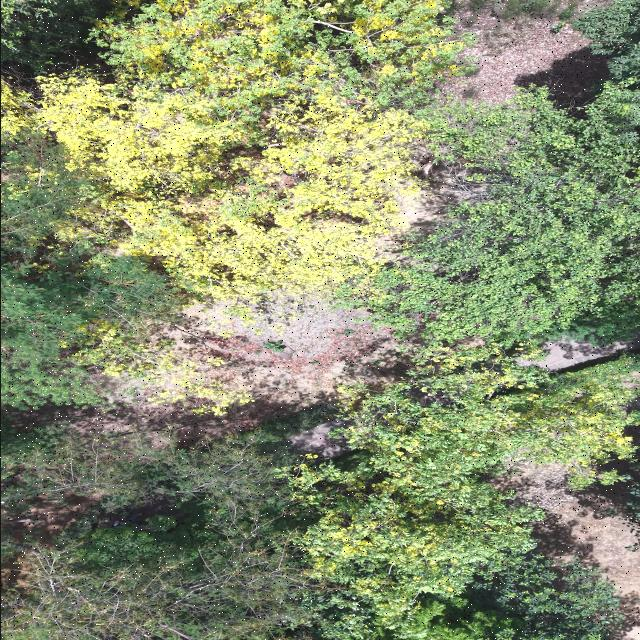DRY_AREA: (10, 296, 401, 448), (14, 296, 404, 446), (13, 297, 402, 447), (16, 296, 402, 446), (14, 299, 401, 447), (65, 294, 402, 440), (65, 296, 404, 440), (66, 295, 395, 437), (166, 296, 398, 442), (171, 298, 403, 440), (172, 297, 394, 440), (175, 299, 398, 438), (174, 294, 395, 430), (172, 297, 404, 411), (491, 463, 639, 639), (176, 294, 394, 413), (494, 463, 639, 639), (494, 464, 639, 639), (497, 464, 639, 639), (174, 297, 398, 407), (499, 464, 639, 639), (505, 465, 639, 639), (506, 465, 639, 639), (439, 2, 607, 106), (4, 390, 300, 449), (440, 6, 607, 107), (4, 394, 295, 449), (441, 11, 607, 107), (4, 394, 290, 448), (444, 11, 606, 105), (534, 498, 639, 639), (534, 487, 639, 598), (274, 307, 390, 402), (515, 46, 607, 108), (398, 162, 469, 231), (1, 495, 92, 543), (519, 337, 639, 371), (521, 337, 639, 369), (287, 418, 348, 460), (399, 182, 446, 229)
VEGETATION_TREE: (1, 0, 639, 639), (3, 0, 637, 410), (2, 347, 634, 639), (3, 0, 466, 306), (42, 0, 465, 297), (289, 347, 633, 627), (8, 76, 424, 298), (366, 82, 639, 343), (3, 433, 312, 639), (1, 131, 188, 406), (337, 345, 638, 486), (290, 452, 541, 621), (91, 0, 466, 112), (1, 245, 181, 405), (292, 554, 621, 639), (1, 420, 184, 511), (460, 556, 622, 639), (1, 0, 114, 81), (572, 0, 639, 78), (453, 0, 576, 24), (622, 456, 639, 551), (625, 481, 639, 550)
